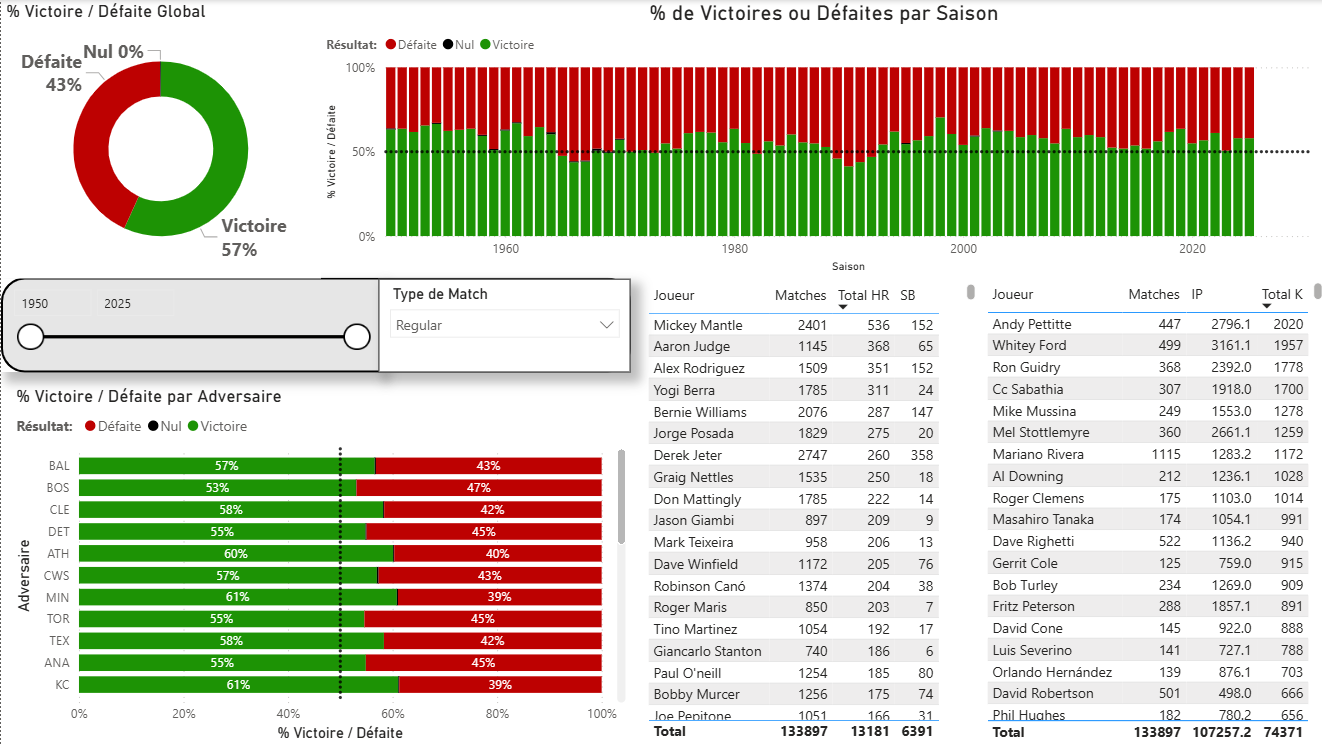

Layout of this report page (visuals, bound fields, positions):
{"tool":"powerbi","page":{"name":"Statistiques_Globales","canvas":[1280,720],"ordinal":0},"visuals":[{"type":"shape","box":[0,267.8,608,91.7],"z":0},{"type":"hundredPercentStackedColumnChart","title":"% de Victoires ou Défaites par Saison","fields":{"Y":["gold dim_games.game_result"],"Series":["gold dim_games.game_result"],"Category":["date_dim.Date.Variation.Date Hierarchy.Year"]},"box":[308.8,0,971.2,267.8],"z":1000},{"type":"hundredPercentStackedBarChart","title":"% Victoire / Défaite par Adversaire","fields":{"Y":["gold dim_games.game_result"],"Category":["gold dim_teams.team_code"],"Series":["gold dim_games.game_result"]},"box":[9.7,371.5,598.3,349.2],"z":2000},{"type":"tableEx","fields":{"Values":["gold dim_players.player_name","_Measures.Total Games","_Measures.Total Home Runs","facts_batting_stats.stolen_bases"]},"box":[618.9,269,326.6,451.5],"z":3000},{"type":"tableEx","fields":{"Values":["gold dim_players.player_name","_Measures.Total Games","_Measures.Total Innings Pitched","gold facts_pitching_stats.strikeouts"]},"box":[945.5,267.6,334.8,452.8],"z":4000},{"type":"slicer","fields":{"Values":["date_dim.Date.Variation.Date Hierarchy.Year"]},"box":[0,268.5,364.5,90.4],"z":5000},{"type":"donutChart","title":"% Victoire / Défaite Global","fields":{"Y":["gold dim_games.game_result"],"Category":["gold dim_games.game_result"]},"box":[0,0,308.9,268.5],"z":6000},{"type":"slicer","fields":{"Values":["gold dim_games.game_type"]},"box":[364.5,268.5,243.5,90.4],"z":7000}]}

Visuals, with their boxes in screenshot pixels (x1, y1, x2, y2), scaled from the page's 1280x720 canvas onto the 1322x746 screenshot:
shape: [0,277,628,372]
"% de Victoires ou Défaites par Saison" hundredPercentStackedColumnChart: [319,0,1321,277]
"% Victoire / Défaite par Adversaire" hundredPercentStackedBarChart: [10,385,628,745]
tableEx - gold dim_players.player_name x _Measures.Total Games: [639,279,977,745]
tableEx - gold dim_players.player_name x _Measures.Total Games: [977,277,1321,745]
slicer - date_dim.Date.Variation.Date Hierarchy.Year: [0,278,376,372]
"% Victoire / Défaite Global" donutChart: [0,0,319,278]
slicer - gold dim_games.game_type: [376,278,628,372]
